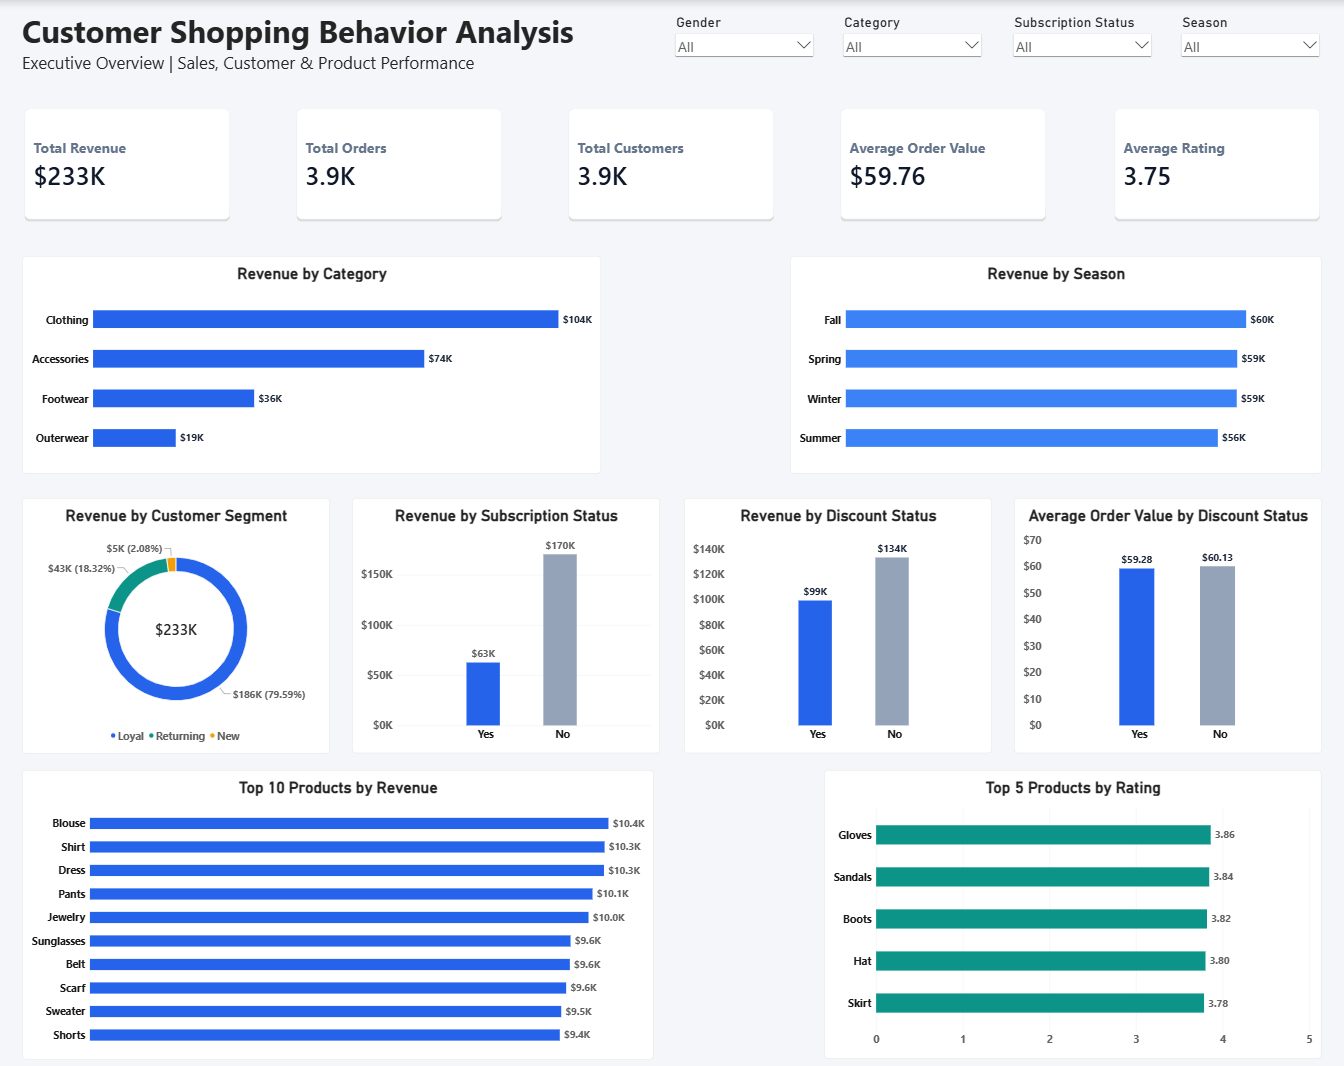

Layout of this report page (visuals, bound fields, positions):
{"tool":"powerbi","page":{"name":"Executive Overview","canvas":[2560,2025],"ordinal":0},"visuals":[{"type":"cardVisual","fields":{"Data":["CustomerShopping.Total Revenue"]},"box":[45,200.5,400,220],"z":0},{"type":"cardVisual","fields":{"Data":["CustomerShopping.Total Orders"]},"box":[562.5,200.5,400,220],"z":1000},{"type":"cardVisual","fields":{"Data":["CustomerShopping.Total Customers"]},"box":[1080,200.5,400,220],"z":2000},{"type":"cardVisual","fields":{"Data":["CustomerShopping.Average Order Value"]},"box":[1597.5,200.5,400,220],"z":3000},{"type":"cardVisual","fields":{"Data":["CustomerShopping.Average Rating"]},"box":[2115,200.5,400,220],"z":4000},{"type":"clusteredBarChart","title":"Revenue by Category","fields":{"Category":["CustomerShopping.category"],"Y":["CustomerShopping.Total Revenue"]},"box":[45,485,1100,413.6],"z":5000},{"type":"clusteredBarChart","title":"Revenue by Season","fields":{"Category":["CustomerShopping.season"],"Y":["CustomerShopping.Total Revenue"]},"box":[1505,485.7,1010,413.6],"z":6000},{"type":"donutChart","title":"Revenue by Customer Segment","fields":{"Category":["CustomerShopping.Customer Segment"],"Y":["CustomerShopping.Total Revenue"]},"box":[45,945,585,485.7],"z":7000},{"type":"clusteredColumnChart","title":"Revenue by Subscription Status","fields":{"Category":["CustomerShopping.subscription_status"],"Y":["CustomerShopping.Total Revenue"]},"box":[673.3,945,585,485],"z":8000},{"type":"clusteredColumnChart","title":"Revenue by Discount Status","fields":{"Category":["CustomerShopping.discount_applied"],"Y":["CustomerShopping.Total Revenue"]},"box":[1301.7,945,585,485],"z":9000},{"type":"clusteredColumnChart","title":"Average Order Value by Discount Status","fields":{"Category":["CustomerShopping.discount_applied"],"Y":["CustomerShopping.Average Order Value"]},"box":[1930,945,585,485],"z":10000},{"type":"clusteredBarChart","title":"Top 10 Products by Revenue","fields":{"Category":["CustomerShopping.item_purchased"],"Y":["CustomerShopping.Total Revenue"]},"box":[45,1463.3,1200,550],"z":11000},{"type":"clusteredBarChart","title":"Top 5 Products by Rating","fields":{"Category":["CustomerShopping.item_purchased"],"Y":["CustomerShopping.Average Rating"]},"box":[1570,1463.3,945,548.3],"z":12000},{"type":"textbox","box":[45,0,1165.6,191.1],"z":13000},{"type":"slicer","fields":{"Values":["CustomerShopping.gender"]},"box":[1281.6,25.1,275,175.5],"z":14000},{"type":"slicer","fields":{"Values":["CustomerShopping.category"]},"box":[1601.2,25.1,275,175.5],"z":15000},{"type":"slicer","fields":{"Values":["CustomerShopping.season"]},"box":[2240.4,25.1,275,175.5],"z":16000},{"type":"slicer","fields":{"Values":["CustomerShopping.subscription_status"]},"box":[1920.8,25.1,275,175],"z":17000}]}

Visuals, with their boxes in screenshot pixels (x1, y1, x2, y2), scaled from the page's 2560x2025 canvas onto the 1344x1066 screenshot:
cardVisual - CustomerShopping.Total Revenue: detection(24, 106, 234, 221)
cardVisual - CustomerShopping.Total Orders: detection(295, 106, 505, 221)
cardVisual - CustomerShopping.Total Customers: detection(567, 106, 777, 221)
cardVisual - CustomerShopping.Average Order Value: detection(839, 106, 1049, 221)
cardVisual - CustomerShopping.Average Rating: detection(1110, 106, 1320, 221)
"Revenue by Category" clusteredBarChart: detection(24, 255, 601, 473)
"Revenue by Season" clusteredBarChart: detection(790, 256, 1320, 473)
"Revenue by Customer Segment" donutChart: detection(24, 497, 331, 753)
"Revenue by Subscription Status" clusteredColumnChart: detection(353, 497, 661, 753)
"Revenue by Discount Status" clusteredColumnChart: detection(683, 497, 991, 753)
"Average Order Value by Discount Status" clusteredColumnChart: detection(1013, 497, 1320, 753)
"Top 10 Products by Revenue" clusteredBarChart: detection(24, 770, 654, 1060)
"Top 5 Products by Rating" clusteredBarChart: detection(824, 770, 1320, 1059)
textbox: detection(24, 0, 636, 101)
slicer - CustomerShopping.gender: detection(673, 13, 817, 106)
slicer - CustomerShopping.category: detection(841, 13, 985, 106)
slicer - CustomerShopping.season: detection(1176, 13, 1321, 106)
slicer - CustomerShopping.subscription_status: detection(1008, 13, 1153, 105)
